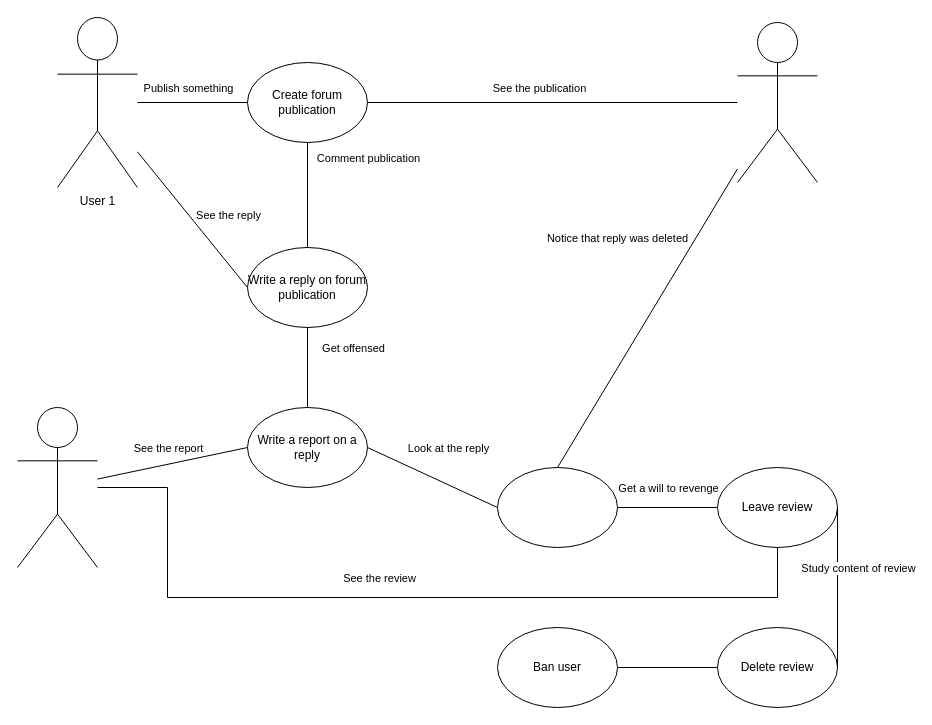
The diagram is 932 pixels wide and 725 high, and some of its shapes have lost their labels. Each missing label, with the centre of its shape:
Accept report: the point at 557,507
Admin: the point at 57,487
User 2: the point at 777,102
